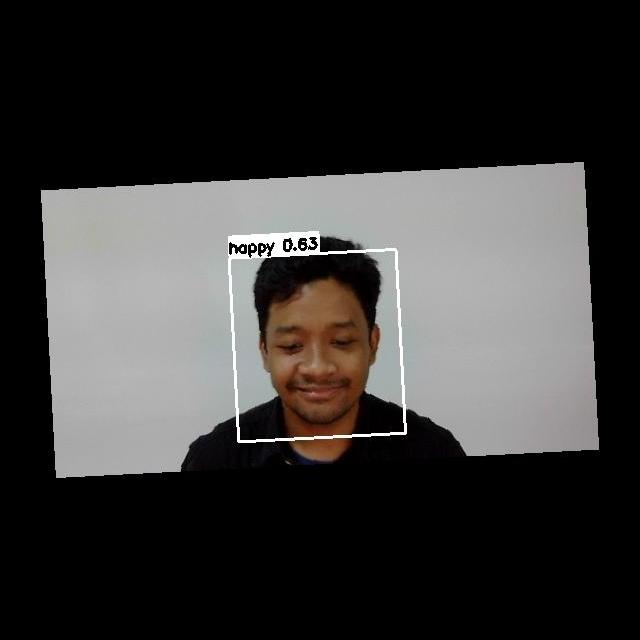Happy: (260, 312, 388, 420)
